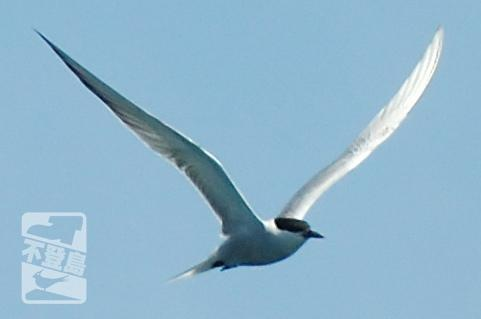bird: (34, 24, 443, 270)
